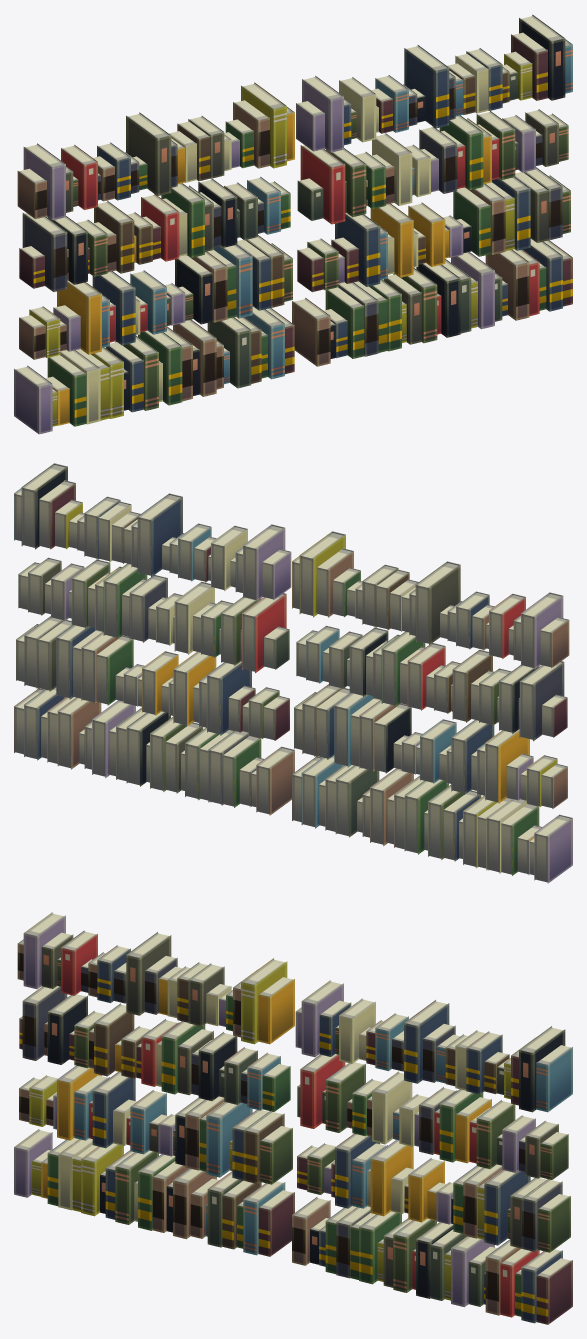
The model's file is fillBooks.glb.
3 views of the same model, one above another, from view 1: azimuth 30°, elevation 25°; view 2: azimuth 150°, elevation 25°; view 3: azimuth 330°, elevation 25° (orthographic).
Visible parts, largest first — view 1: library.001; view 2: library.001; view 3: library.001.
Part boxes in pixels (<box>): library.001: <box>14,14,572,434</box>; library.001: <box>14,463,572,883</box>; library.001: <box>14,912,572,1324</box>.
Size of the model in its own units: 210 by 102 by 22.39.
Materials: 1 (1 with a texture image).
